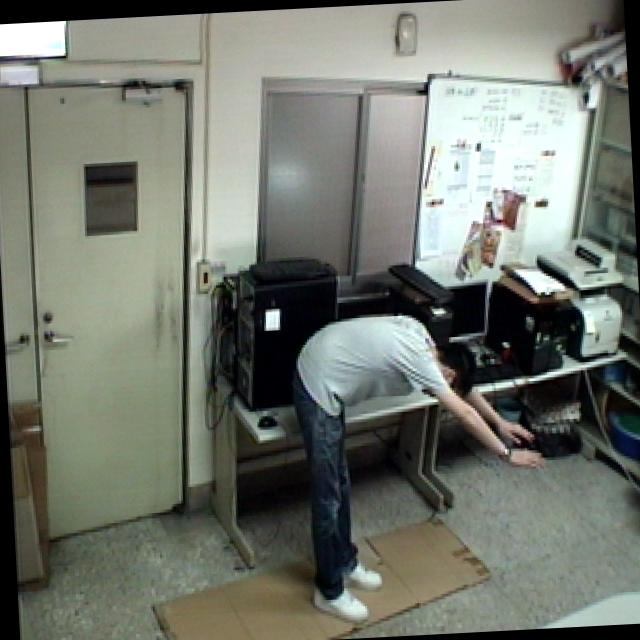bend: (286, 297, 558, 628)
